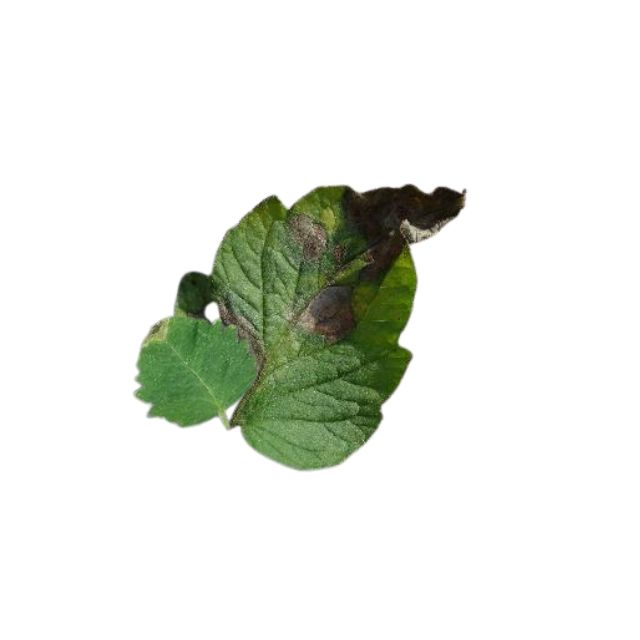Late_blight: (342, 181, 467, 286), (291, 279, 357, 342), (218, 304, 264, 392), (283, 210, 328, 266), (141, 319, 172, 346)
